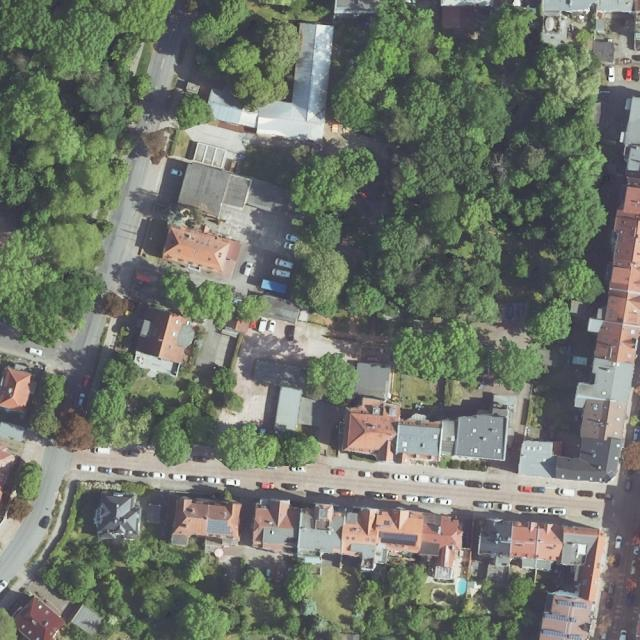PV: (206, 519, 233, 535), (543, 630, 583, 640), (379, 532, 417, 541), (544, 614, 577, 623), (557, 600, 587, 609)
ST: (381, 538, 415, 546)
